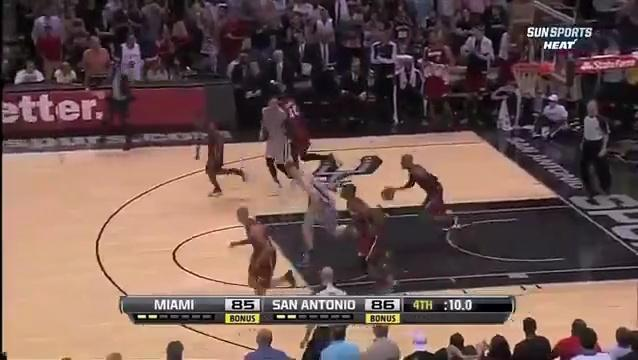Backboard: (529, 0, 573, 87)
Ball: (382, 188, 395, 200)
Basket: (511, 63, 540, 95)
Person: (284, 160, 352, 269), (232, 207, 307, 298), (394, 150, 462, 235), (337, 181, 392, 284), (280, 86, 327, 185), (199, 117, 245, 199), (255, 97, 292, 186)
Referee: (578, 96, 615, 202), (313, 265, 350, 296)
